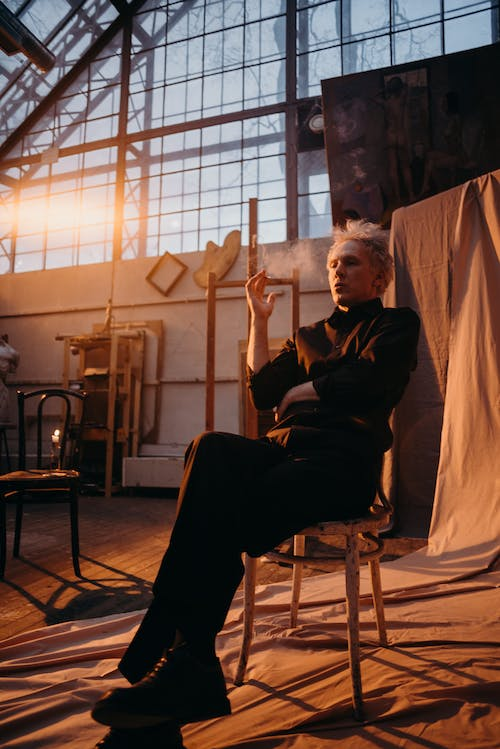cigarette: (249, 270, 276, 283)
